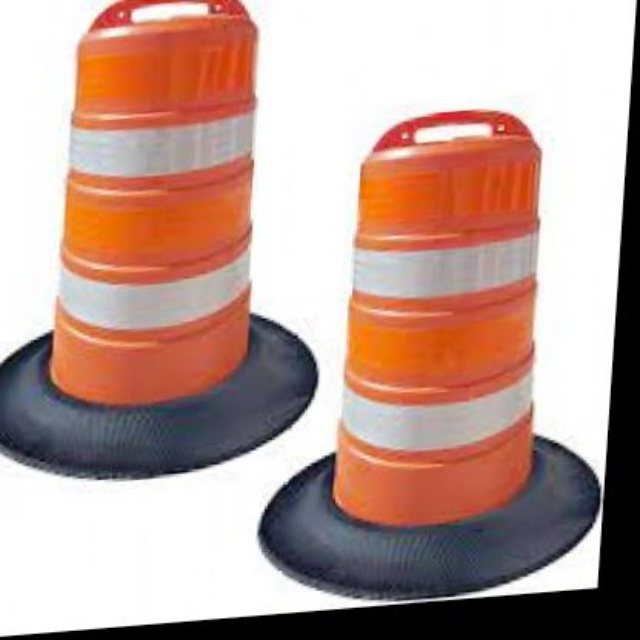obstacle: (40, 0, 283, 429), (337, 113, 564, 562)
